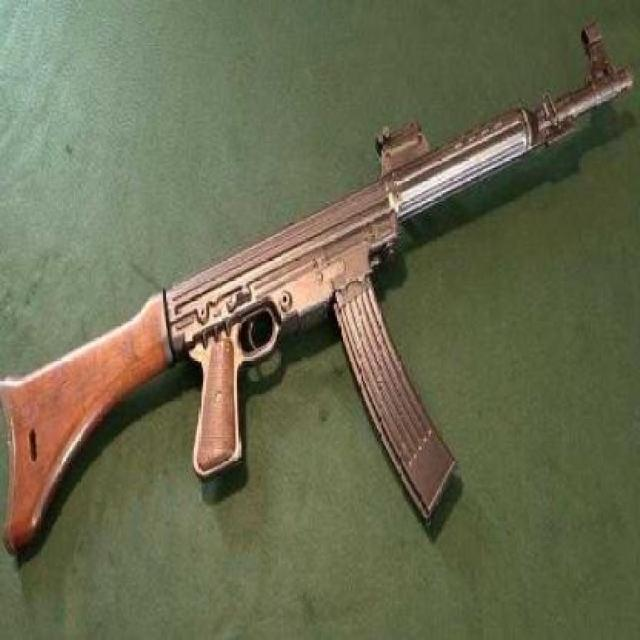weapon: (0, 21, 639, 560)
